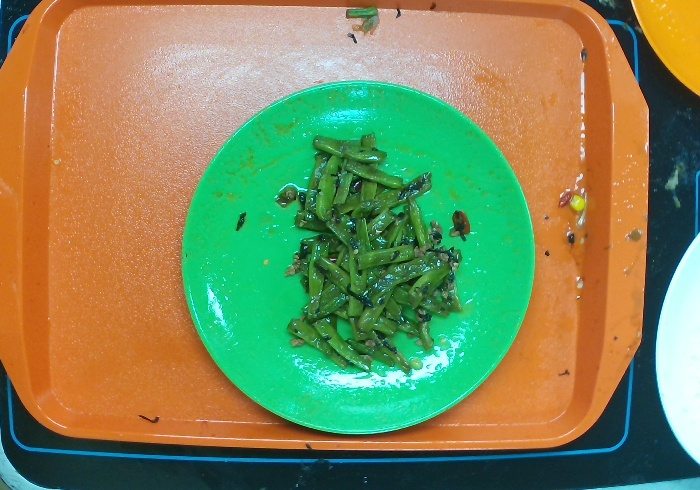HZYJPL-Lv_Se_Yuan_Pan: (175, 75, 542, 438)
